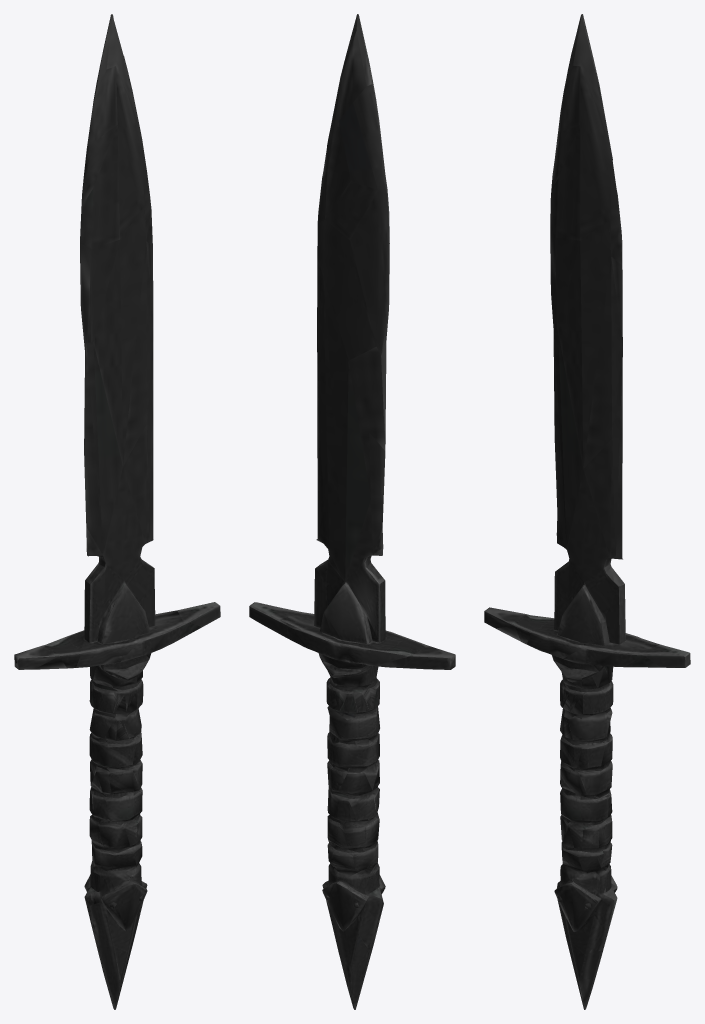
The model's file is weapon-dagger.glb.
3 views of the same model, side by side, from view 1: azimuth 30°, elevation 25°; view 2: azimuth 150°, elevation 25°; view 3: azimuth 330°, elevation 25° (orthographic).
Bounding box in the file's own units: 0.0849 × 0.4006 × 0.024.
Materials: 1 (1 with a texture image).
